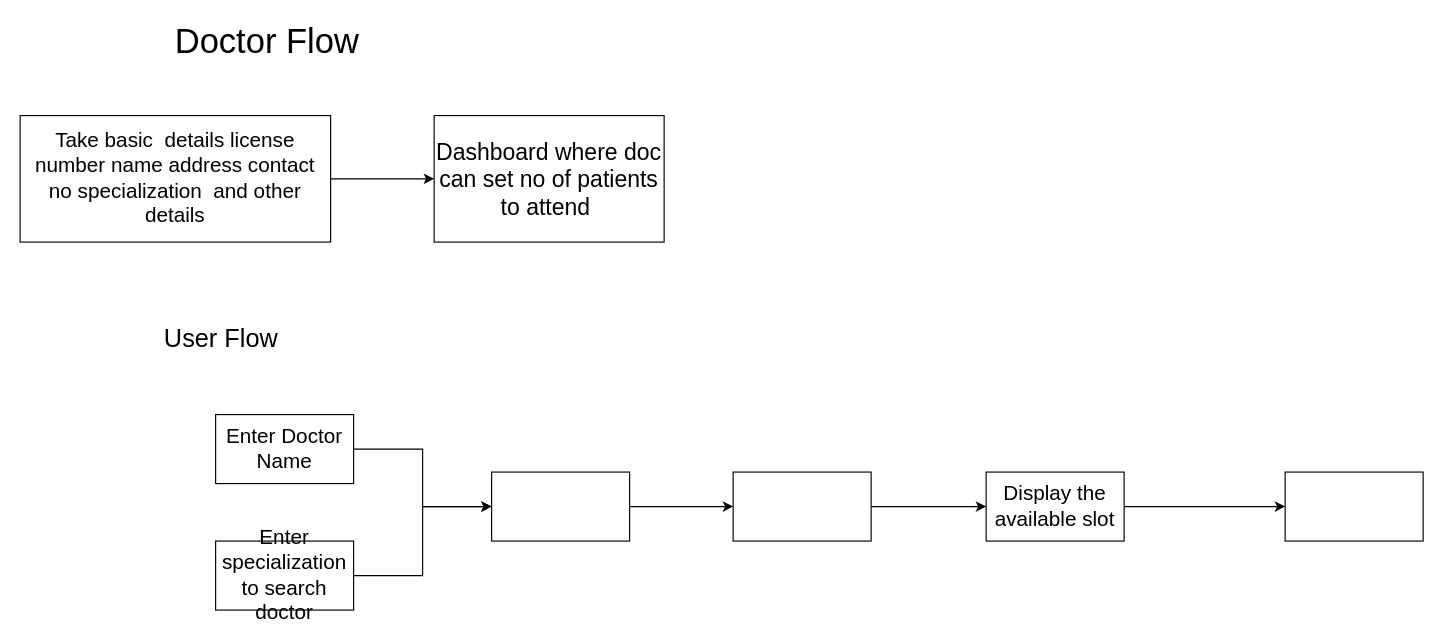
Image size: 1443x644. Some labels were removed from this diagram. The box of each missing label's shape, as (x1, y1, x2, y2) in pixels:
Availabilty of doctor: (490, 471, 630, 541)
Choose date: (732, 471, 871, 541)
Send COnfirmation for slot booking: (1284, 471, 1423, 541)
